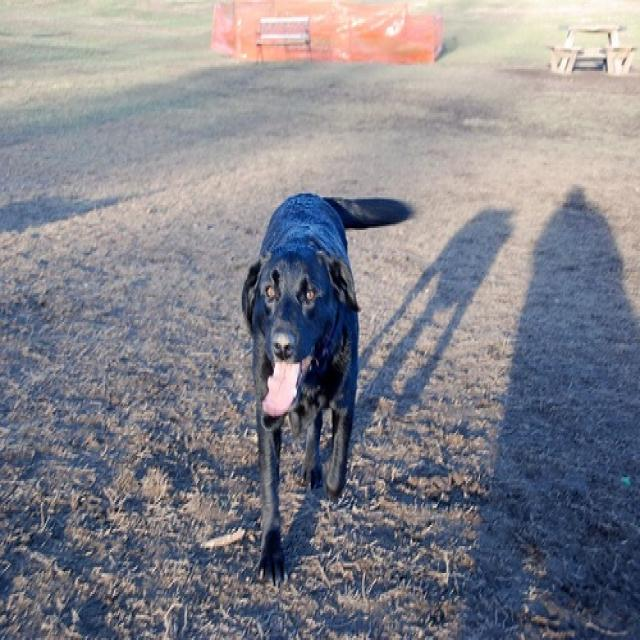dog: (237, 184, 412, 581)
